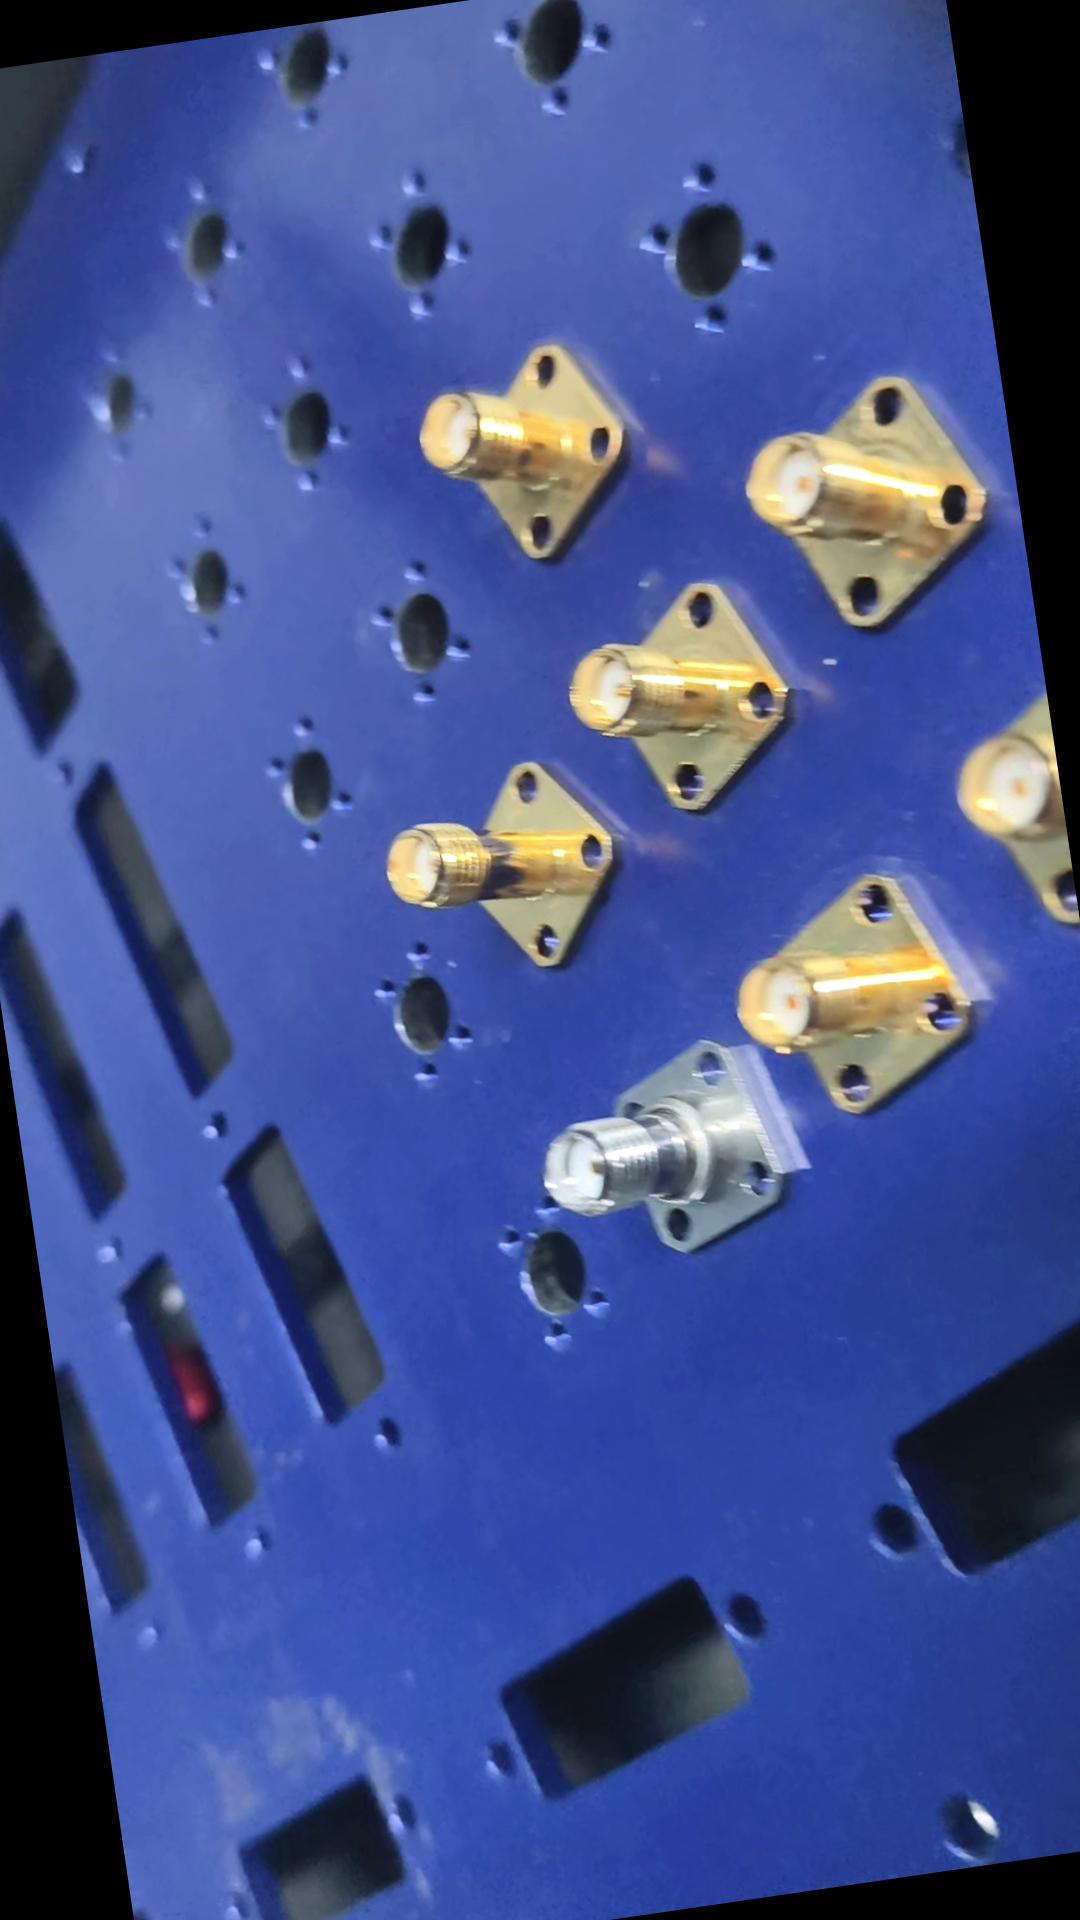SMA: (719, 361, 997, 647), (520, 1002, 807, 1273), (711, 858, 977, 1147), (371, 716, 626, 993), (400, 311, 642, 579), (553, 568, 798, 829)
